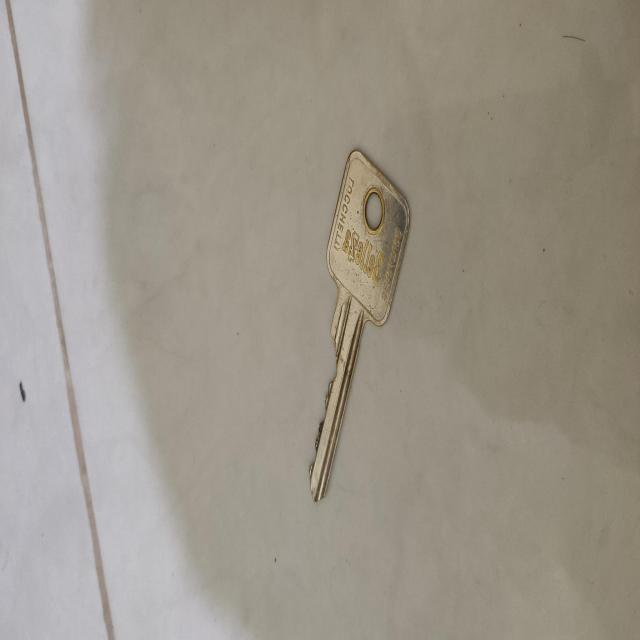kunci_kos: (298, 152, 414, 520)
